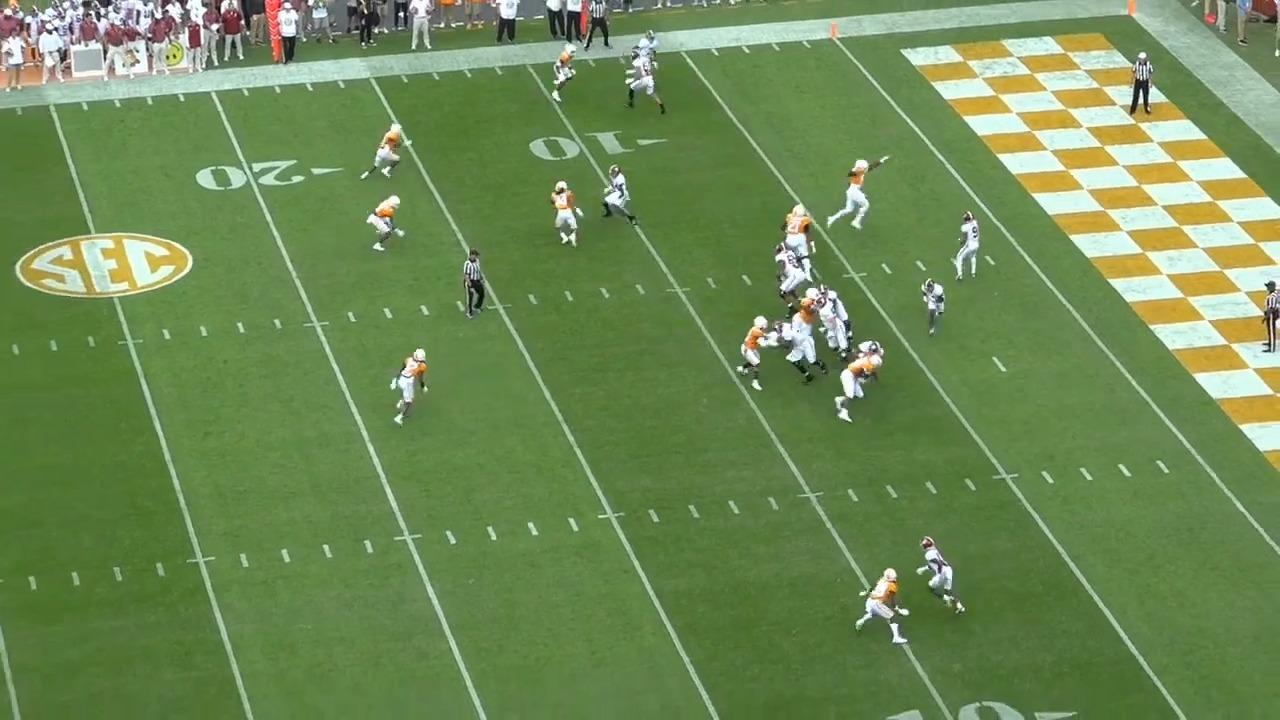defense: (850, 567, 911, 648), (831, 344, 886, 425), (730, 314, 783, 393), (824, 158, 876, 234), (388, 344, 430, 427), (777, 200, 817, 283), (361, 120, 409, 182), (551, 181, 590, 252), (360, 193, 401, 254), (791, 283, 826, 353), (547, 39, 577, 104)
oline: (778, 311, 833, 386), (809, 282, 855, 360), (771, 242, 813, 312), (810, 296, 850, 362), (854, 339, 887, 358)
qb: (949, 210, 982, 285)
ref: (463, 246, 494, 321), (1128, 49, 1158, 119), (578, 3, 608, 55), (1264, 281, 1280, 357)
skill: (909, 535, 963, 618), (621, 43, 668, 120), (601, 160, 644, 229), (916, 278, 949, 344), (623, 28, 660, 85)
